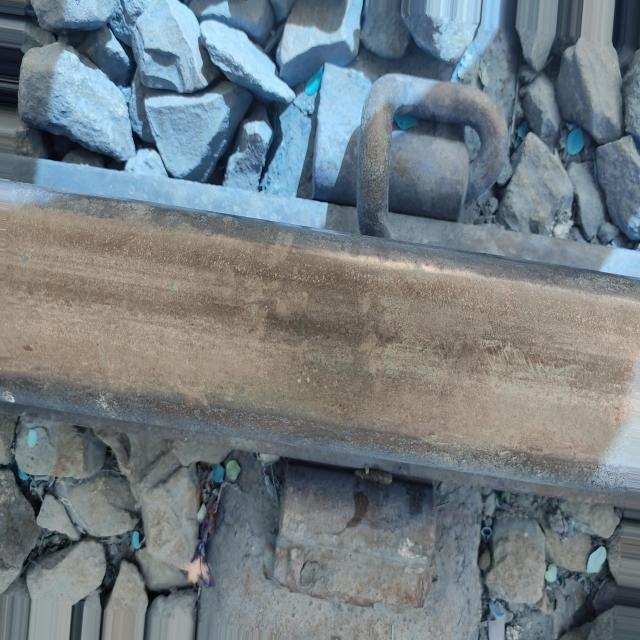Good Fasteners: (303, 63, 544, 248)
Missing Fastener: (246, 449, 452, 624)
